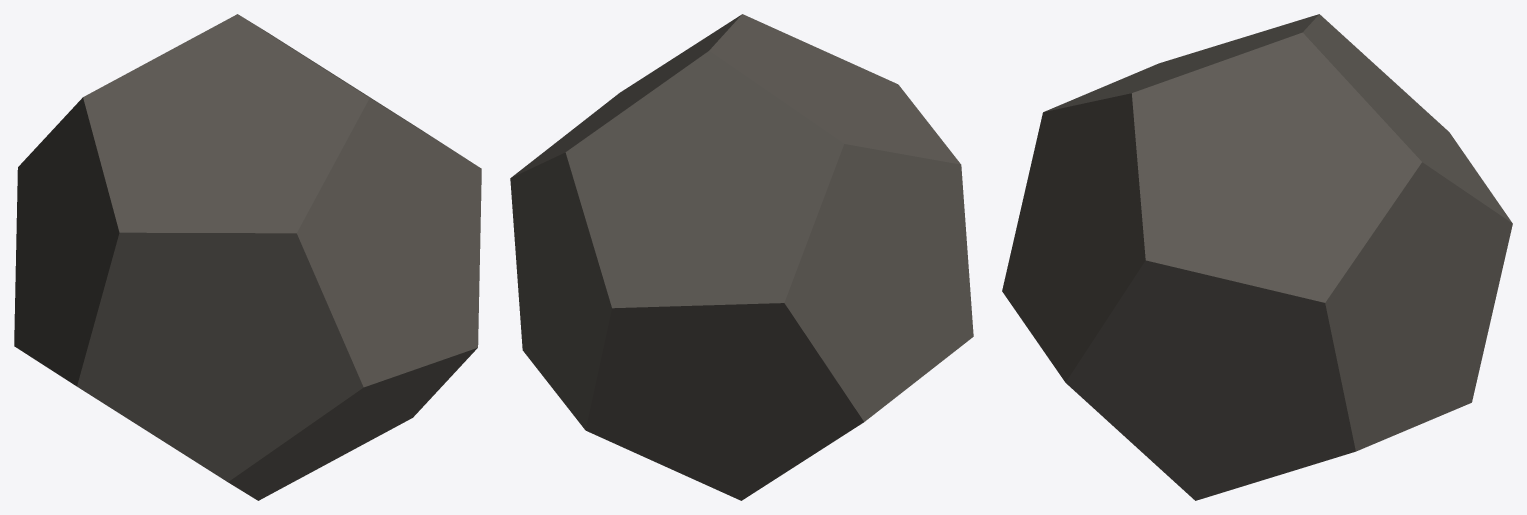
The model's file is roca.glb.
3 renders of one model, left to right at view 1: azimuth 30°, elevation 25°; view 2: azimuth 150°, elevation 25°; view 3: azimuth 270°, elevation 25°, orthographic. The views are drawn at different scales.
Visible parts, largest first — view 1: roca; view 2: roca; view 3: roca.
Boxes of the visible parts, x1,y1,x2,y2 form: roca: [14, 14, 481, 500]; roca: [510, 14, 973, 500]; roca: [1002, 14, 1512, 500].
Bounding box in the file's own units: 1.33 × 1.4 × 1.4.
Materials: 1 (1 with a texture image).
